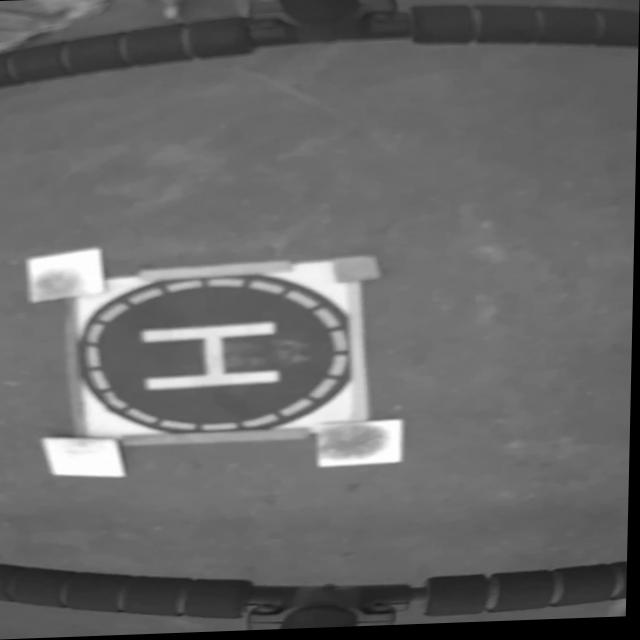Helipad: (142, 321, 283, 390)
